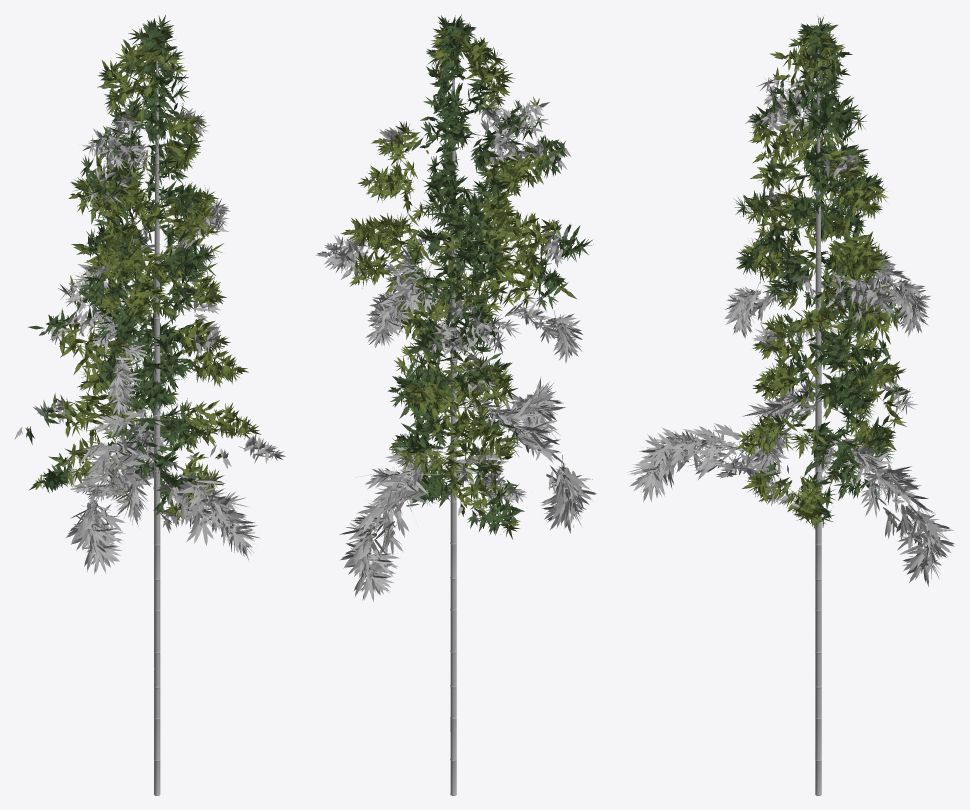
File: SM_Bamboo_a1_LOD_1.fbx
3 views of the same model, side by side, from view 1: azimuth 30°, elevation 25°; view 2: azimuth 150°, elevation 25°; view 3: azimuth 270°, elevation 25° (orthographic).
Parts seen in each view (by area): view 1: polySurface3; view 2: polySurface3; view 3: polySurface3.
Part boxes in pixels (x1=…): polySurface3: x1=14, y1=15, x2=285, y2=795; polySurface3: x1=315, y1=14, x2=596, y2=795; polySurface3: x1=628, y1=16, x2=954, y2=795.
Bounding box in the file's own units: 1343 × 1760 × 4582.
